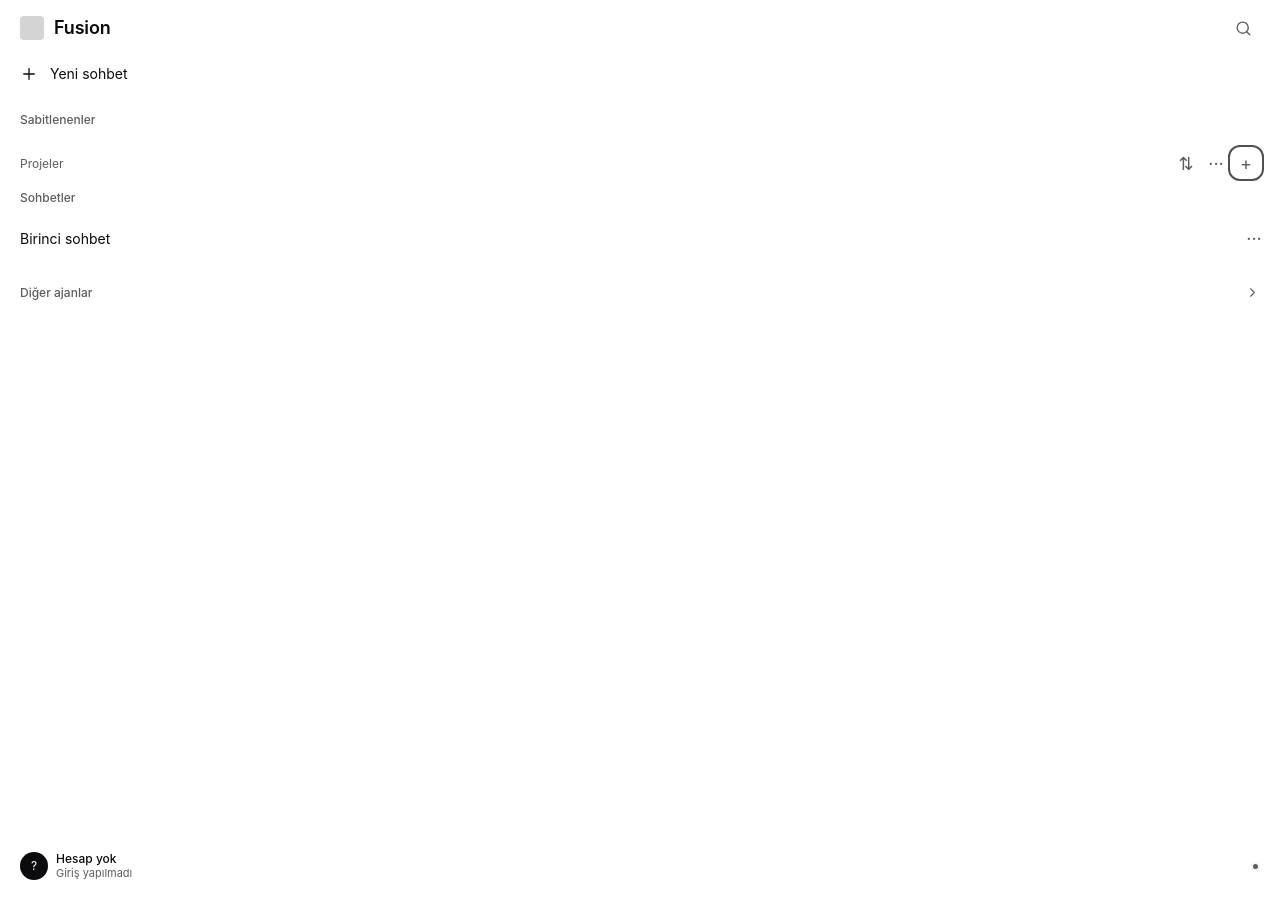
Sidebar — dalga 4 P2/P3 › proje diyaloğu Escape ile kapanır ve odağı geri verir (U1-54)
Click the button named "Yeni proje".
click(1246, 163)  # box [1232,149,1260,177]
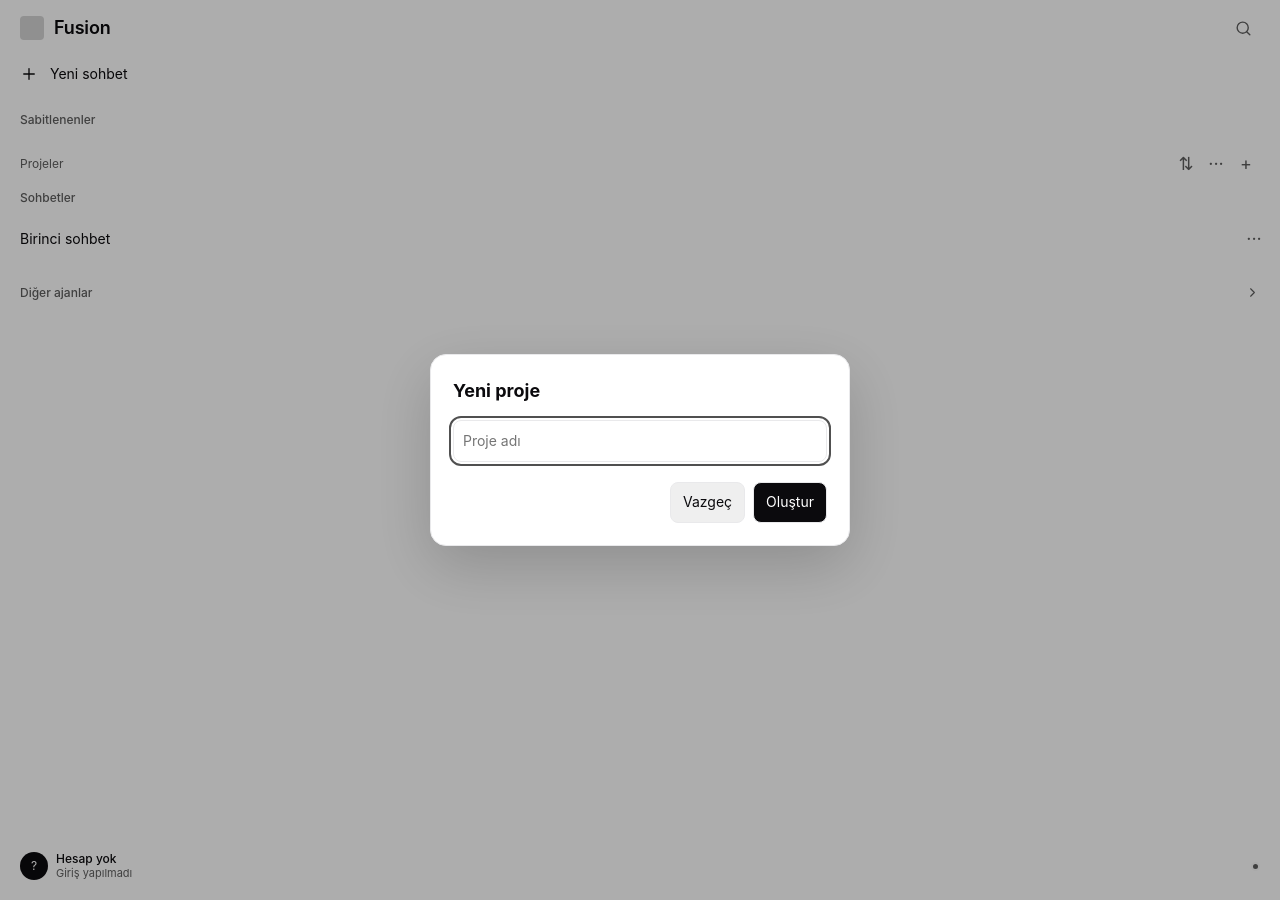
Result: the dialog "Yeni proje" is shown at [430,354,850,546]
Press Escape
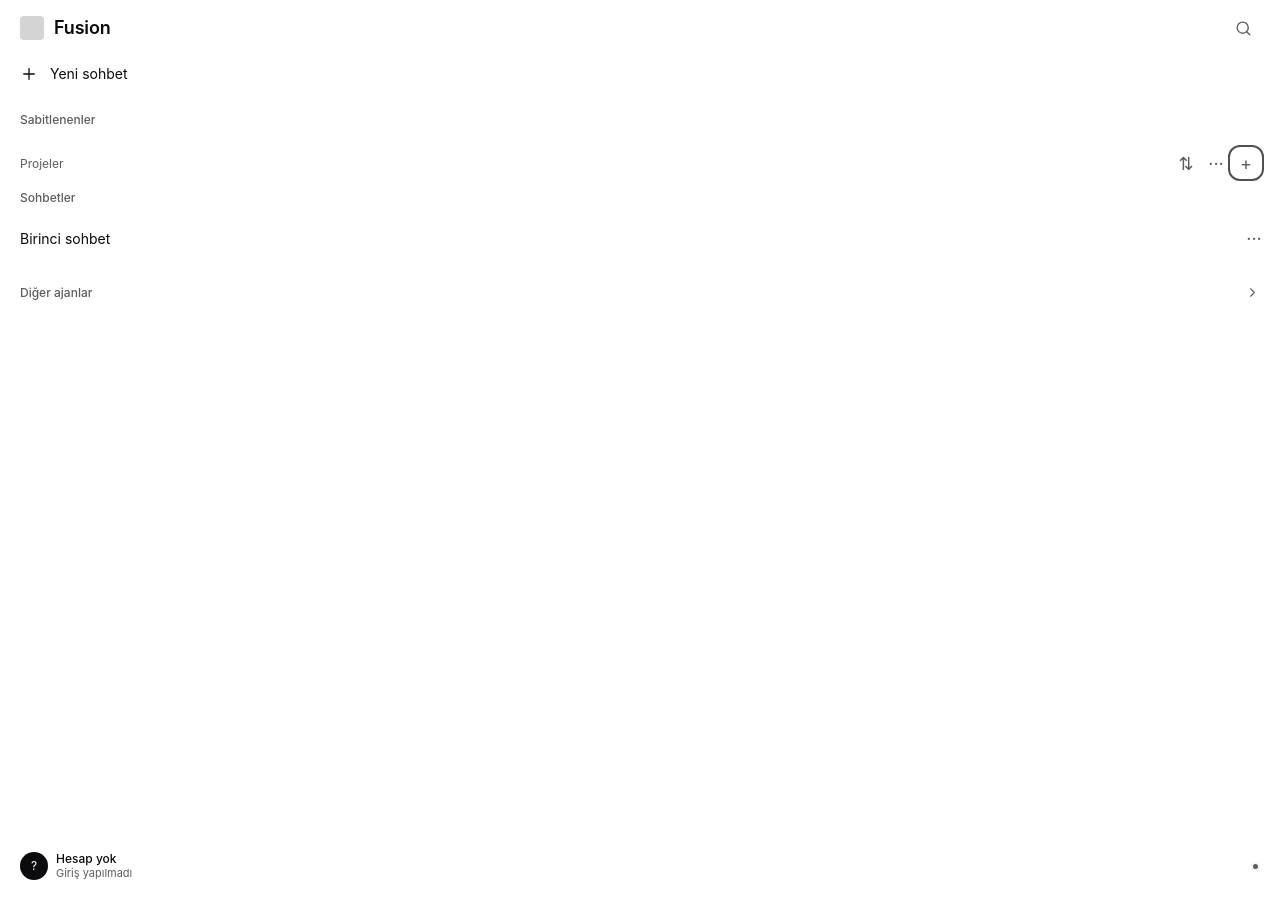
Result: the dialog is gone
